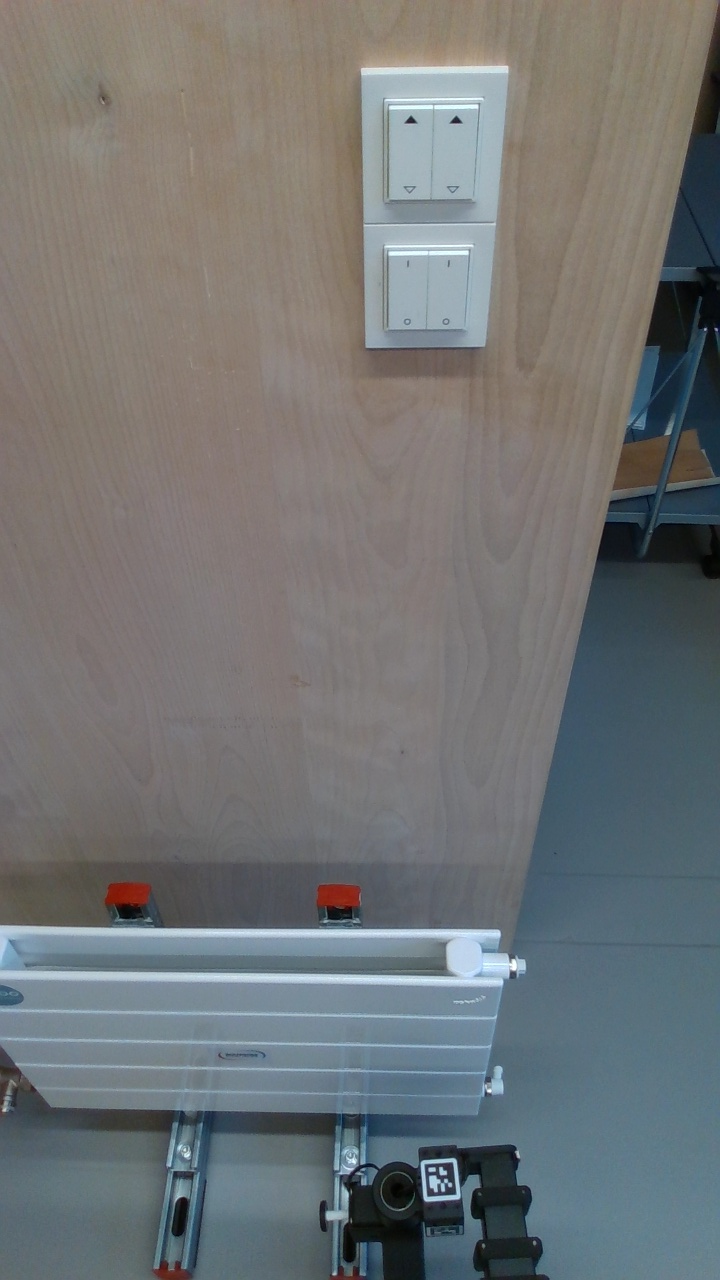Light_Switch: (363, 70, 503, 215), (367, 218, 490, 349)
Radiator: (1, 920, 526, 1127)
